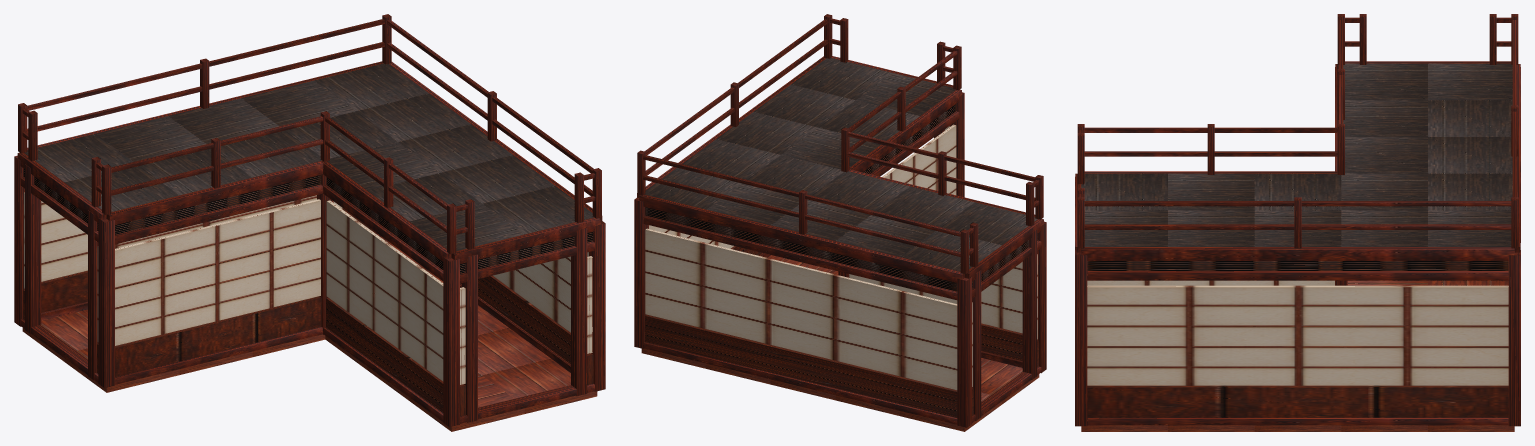
Rendered from HallWayWithTurnFixed_LOD2.fbx.
3 views of the same model, side by side, from view 1: azimuth 30°, elevation 25°; view 2: azimuth 150°, elevation 25°; view 3: azimuth 270°, elevation 25° (orthographic). The views are drawn at different scales.
Parts seen in each view (by area): view 1: Retopo_HallWayWithTurnFixed_LOD2.001; view 2: Retopo_HallWayWithTurnFixed_LOD2.001; view 3: Retopo_HallWayWithTurnFixed_LOD2.001.
Boxes of the visible parts, <box> form: Retopo_HallWayWithTurnFixed_LOD2.001: <box>14,14,605,431</box>; Retopo_HallWayWithTurnFixed_LOD2.001: <box>634,14,1046,431</box>; Retopo_HallWayWithTurnFixed_LOD2.001: <box>1075,14,1520,431</box>.
Size of the model in its own units: 823 by 475 by 823.
